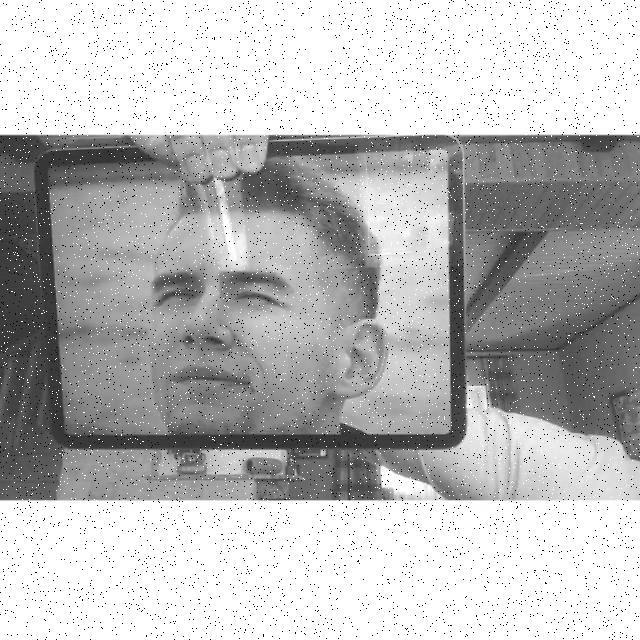fake: (41, 150, 464, 448)
